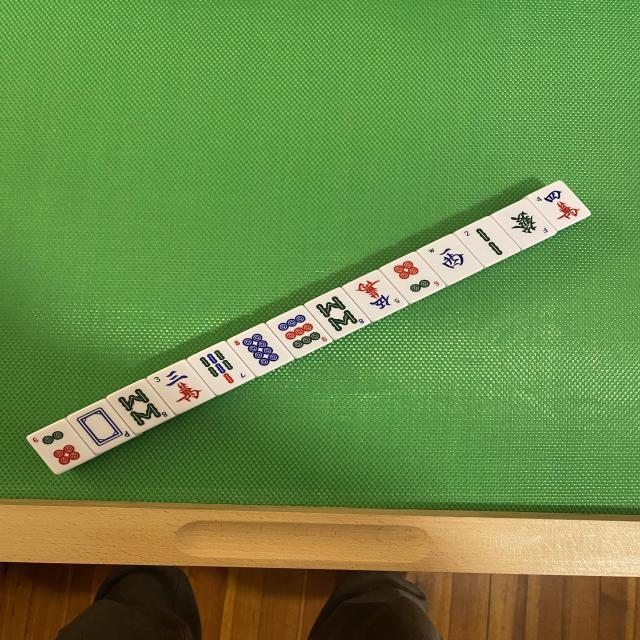hdg: (493, 198, 558, 253)
hdw: (68, 399, 132, 456)
hww: (418, 232, 484, 288)
sb2: (456, 215, 520, 271)
sb7: (188, 341, 253, 398)
sb8: (108, 378, 174, 436), (307, 286, 370, 342)
sc3: (147, 359, 213, 417)
sc4: (526, 180, 591, 234)
sc5: (346, 268, 408, 324)
sd6: (382, 250, 447, 306), (26, 418, 88, 474)
sd8: (229, 324, 294, 380)
sd9: (266, 304, 332, 359)
